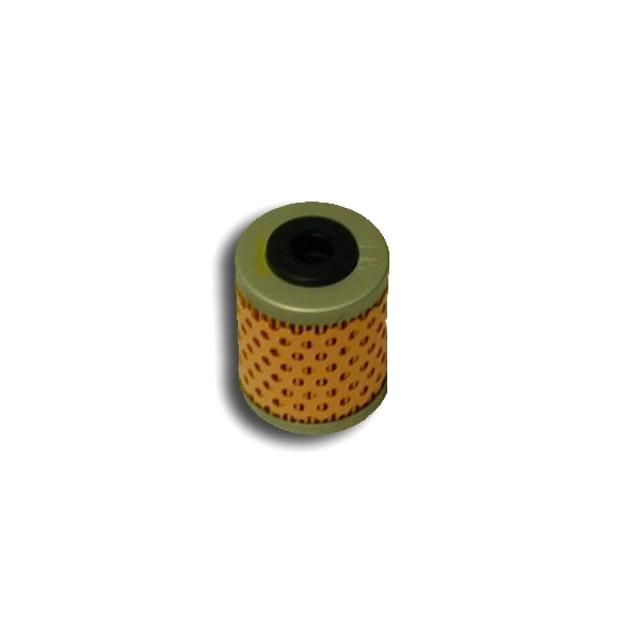oil_filter: (231, 188, 393, 451)
